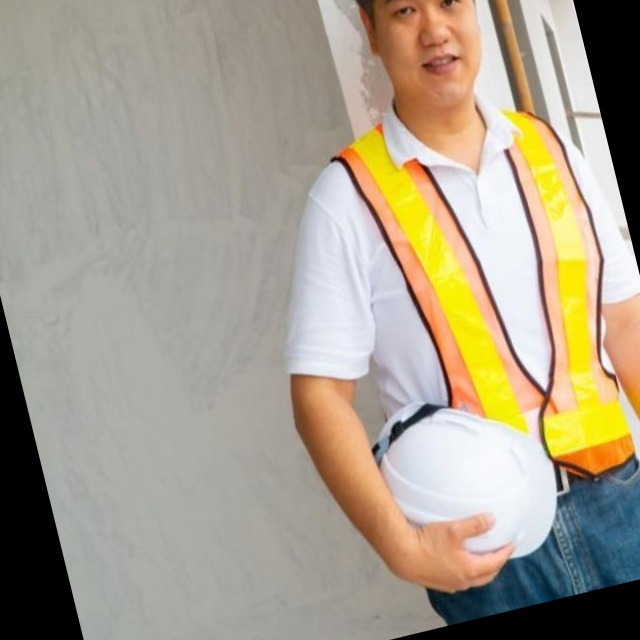Con_Chaleco: (319, 82, 640, 541)
Sin_Casco_Mascarrilla: (332, 0, 512, 120)
